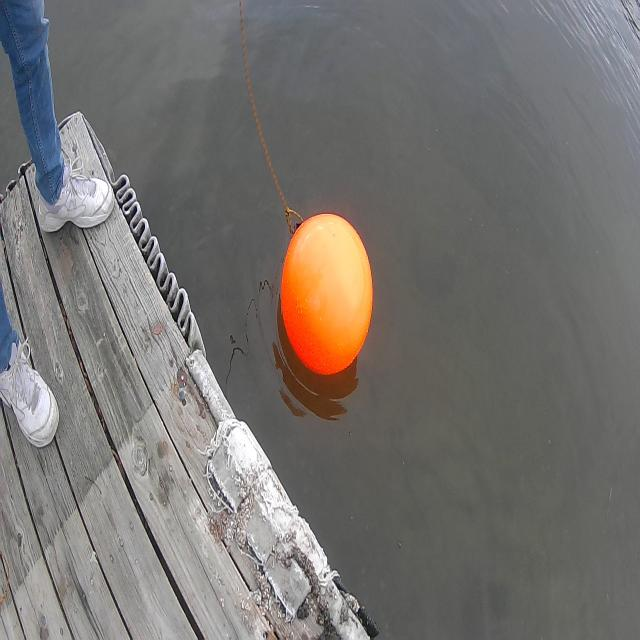Buoy: (274, 200, 380, 388)
